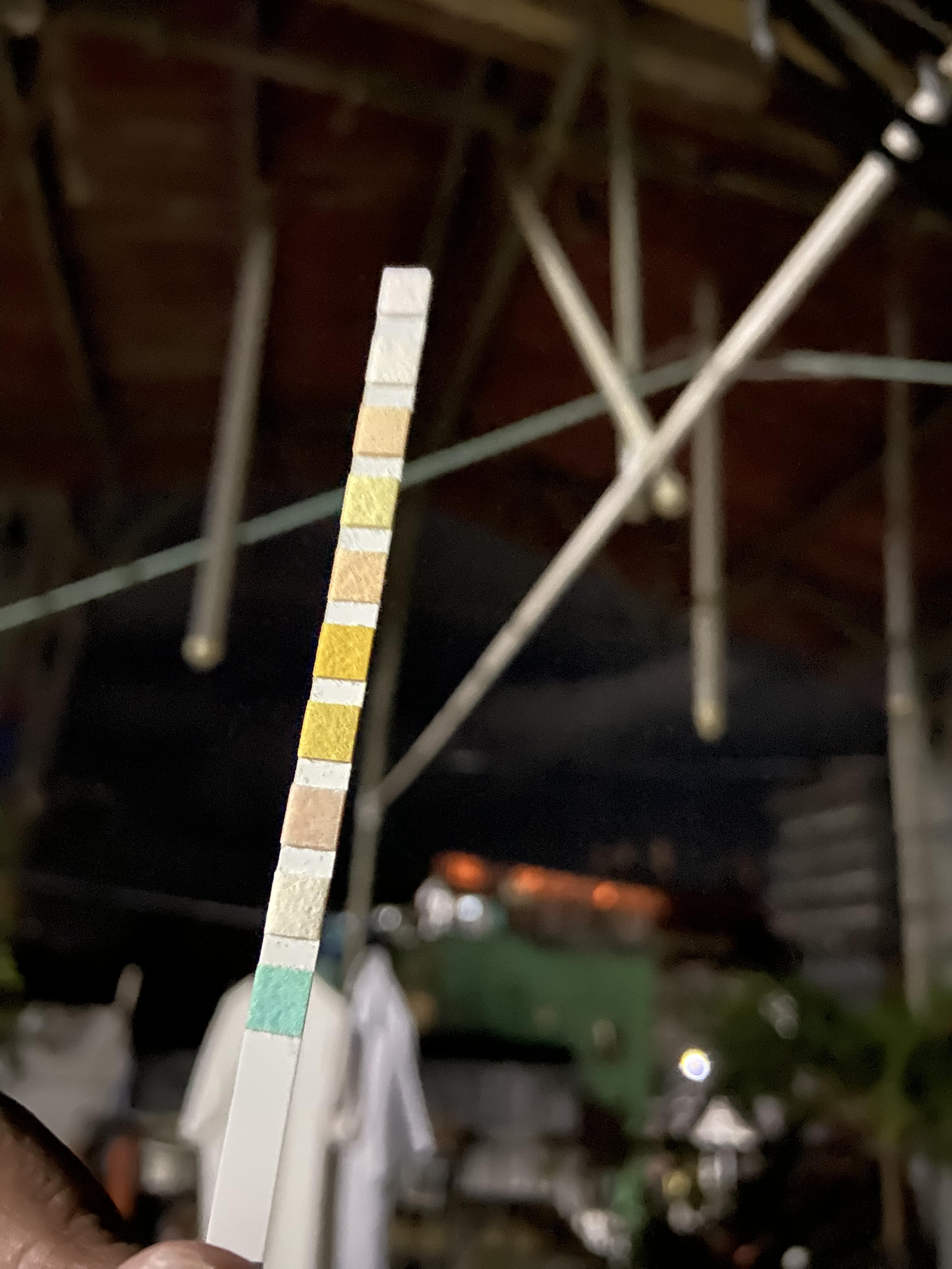Bilirubin: (276, 880, 320, 935)
Blood: (324, 630, 364, 676)
Glucose: (257, 970, 304, 1030)
Ketone: (291, 793, 336, 844)
Leukocytes: (383, 271, 424, 312)
Nitrite: (372, 342, 415, 380)
Protein: (350, 480, 392, 524)
SpGravity: (306, 709, 350, 756)
Urobilinogen: (360, 412, 402, 451)
pH: (334, 555, 379, 598)
strip: (205, 268, 432, 1262)
